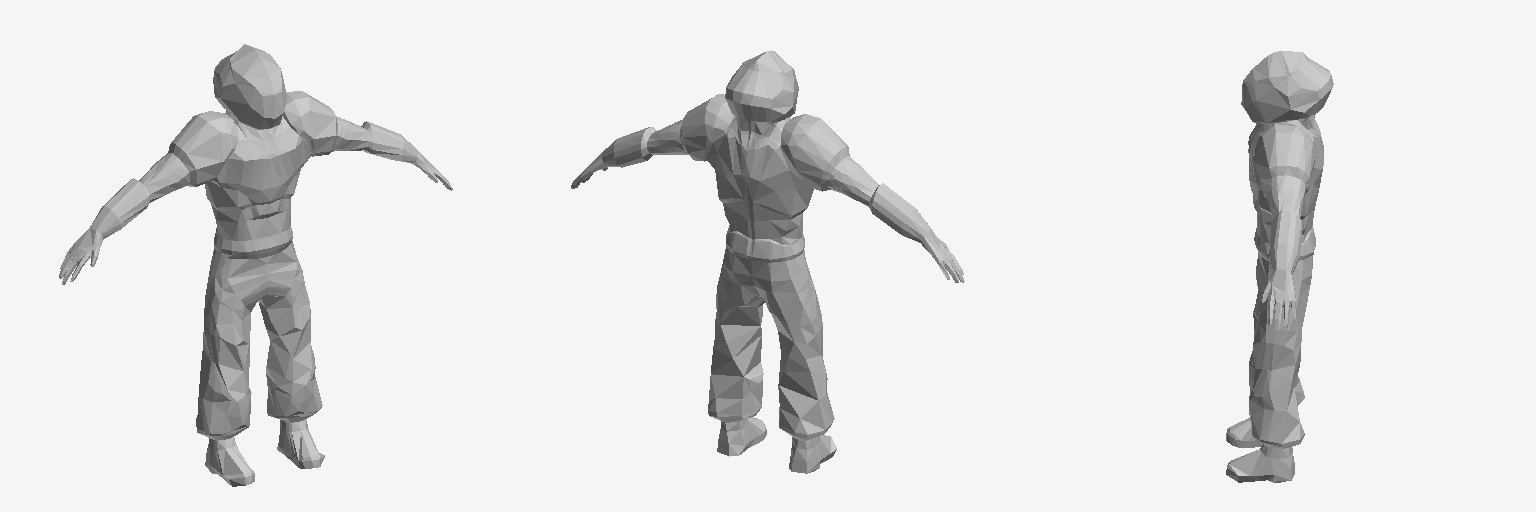
File: HERO_LOWLOWPOLY_FINAL.obj
3 views of the same model, side by side, from view 1: azimuth 30°, elevation 25°; view 2: azimuth 150°, elevation 25°; view 3: azimuth 270°, elevation 25° (orthographic).
Visible parts, largest first — view 1: LOWLOW_DE_POLY.001_Plane.000; view 2: LOWLOW_DE_POLY.001_Plane.000; view 3: LOWLOW_DE_POLY.001_Plane.000.
Part boxes in pixels (bbox=[...]): LOWLOW_DE_POLY.001_Plane.000: bbox=[59, 44, 452, 486]; LOWLOW_DE_POLY.001_Plane.000: bbox=[571, 50, 964, 473]; LOWLOW_DE_POLY.001_Plane.000: bbox=[1226, 51, 1333, 482].
Bounding box in the file's own units: 1.88 × 1.89 × 0.4496.